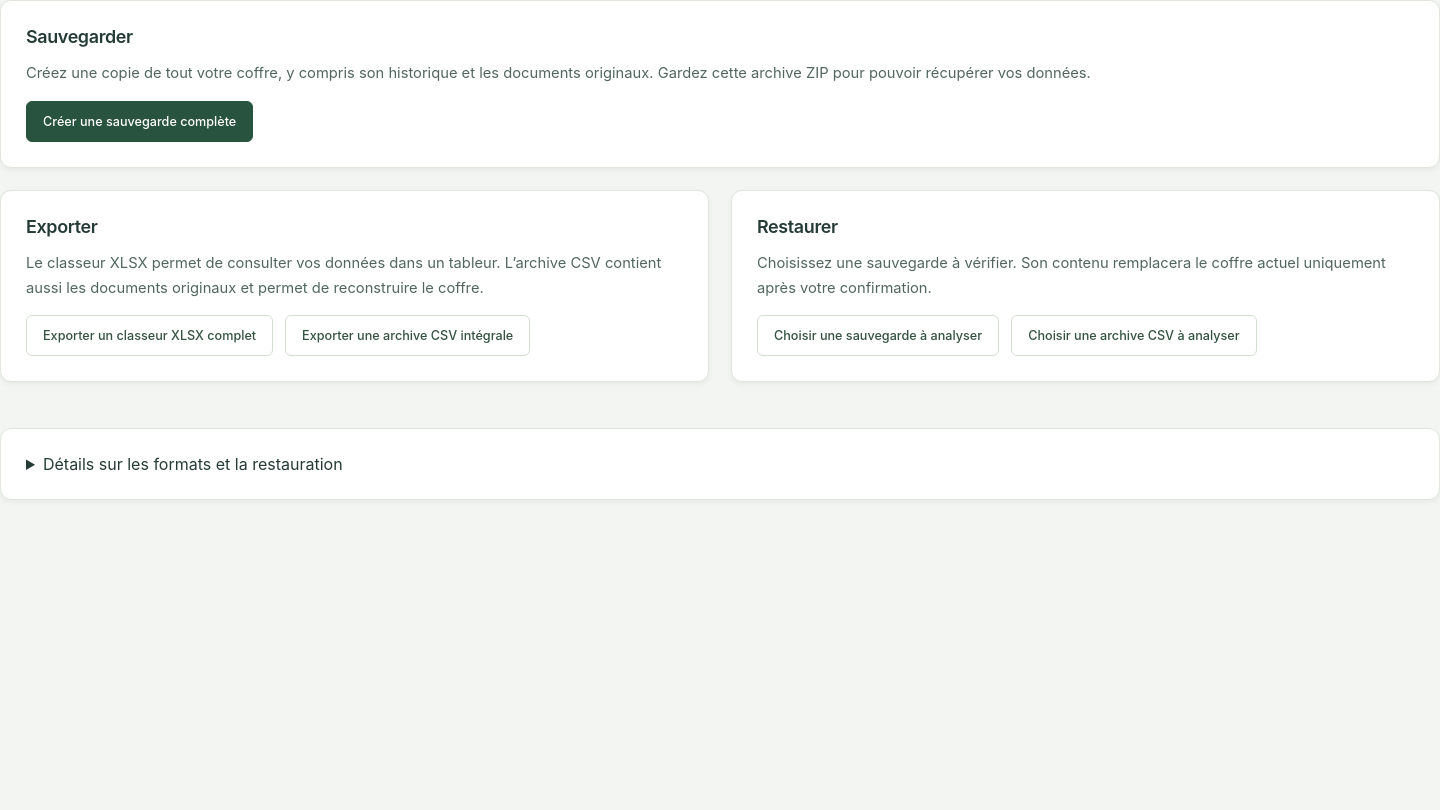
Test: Portabilité intégrale › REG-03 garde l’activation confirmée si le rafraîchissement échoue sans permettre sa répétition
Click the button "Choisir une archive CSV à analyser".
click(1134, 336)  # box x1=1011 y1=316 x2=1257 y2=356
(page scrolled)
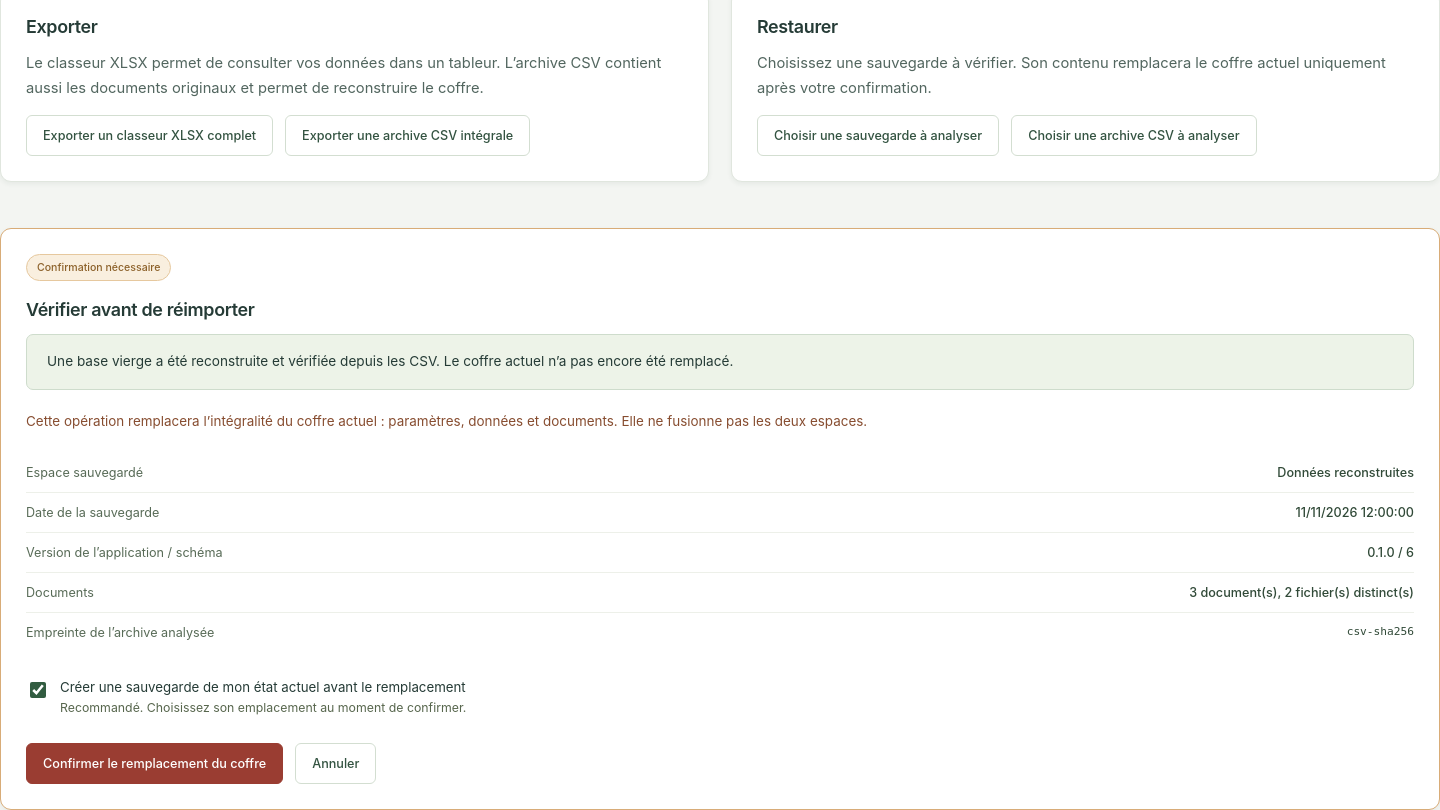
Result: the heading "Vérifier avant de réimporter" is shown at x1=26 y1=300 x2=255 y2=320
Click the button "Confirmer le remplacement du coffre".
click(155, 764)  # box x1=26 y1=743 x2=283 y2=784
(page scrolled)
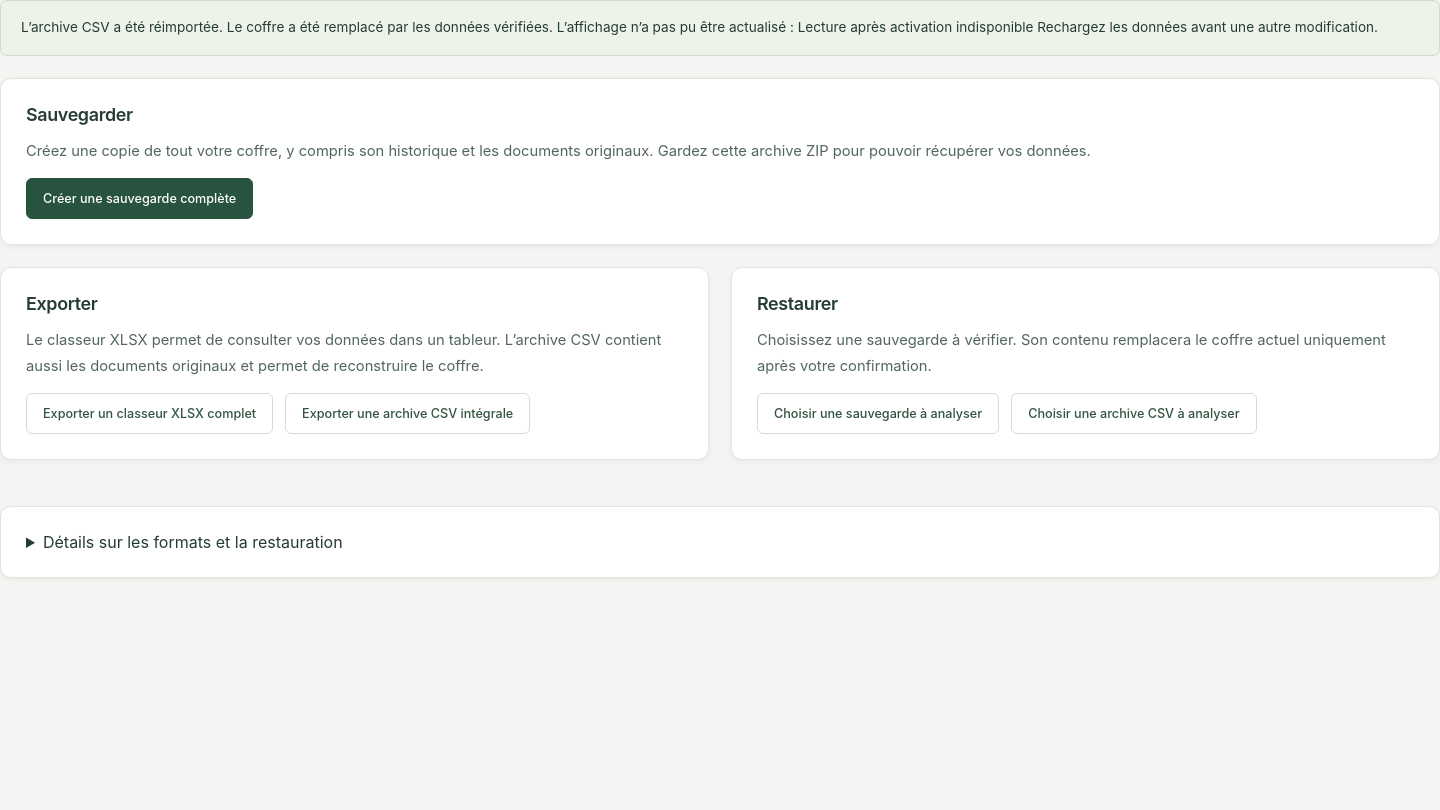
Expected: the button "Choisir une archive CSV à analyser" is enabled, x1=1011 y1=393 x2=1257 y2=434
Result: the button "Confirmer le remplacement du coffre" is gone
